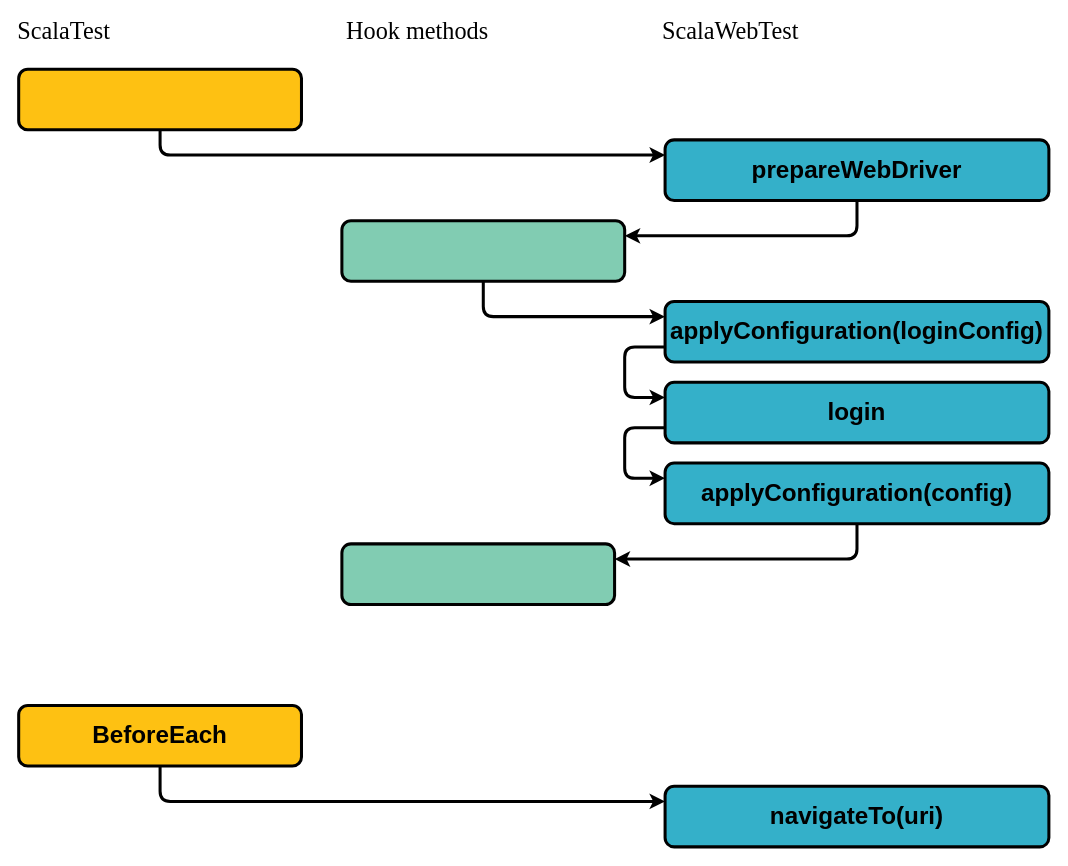
Some shapes in this 1068 by 866 pixel diagram are drawn without their labels. The shapes that lost their labels are listed below. From the top down, each one's centre as x and y in pixels, then its label:
At (159,99): "BeforeAll".
At (483,250): "beforeLogin".
At (478,573): "afterLogin".
